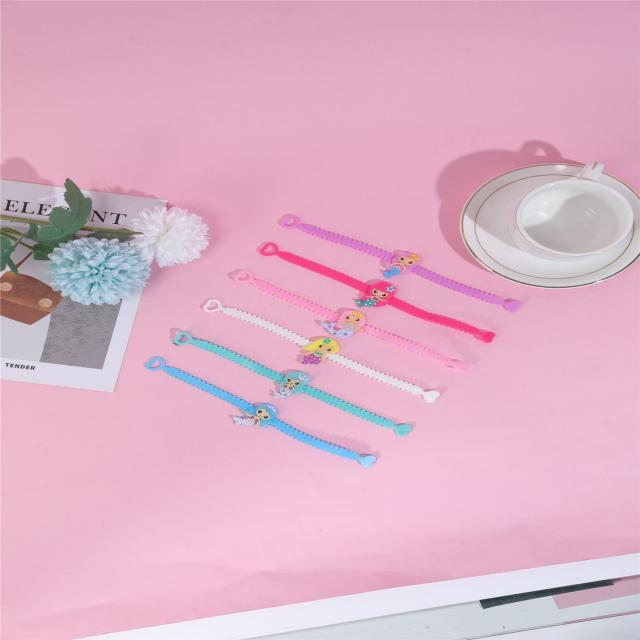bracelet: (118, 152, 539, 498)
